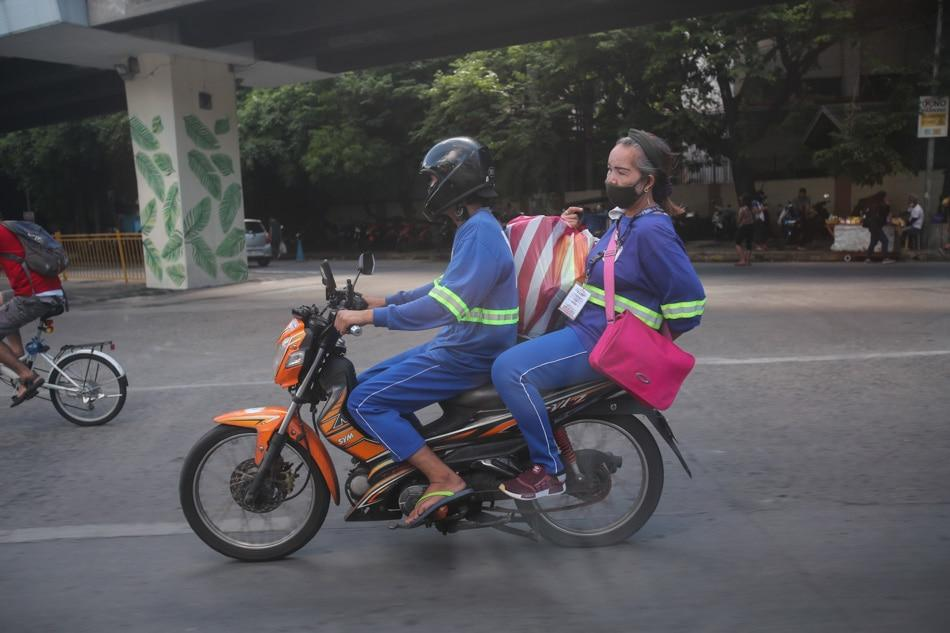helmet: (417, 135, 496, 223)
nohelmet: (604, 130, 673, 215)
